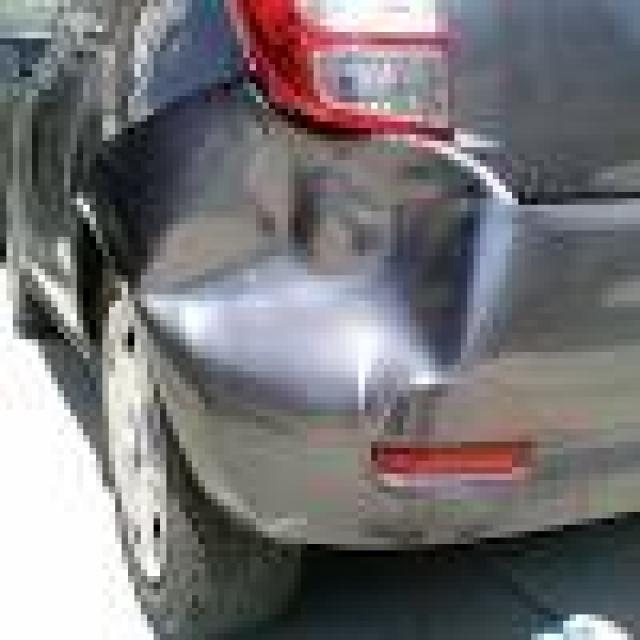minor: (130, 42, 572, 405)
